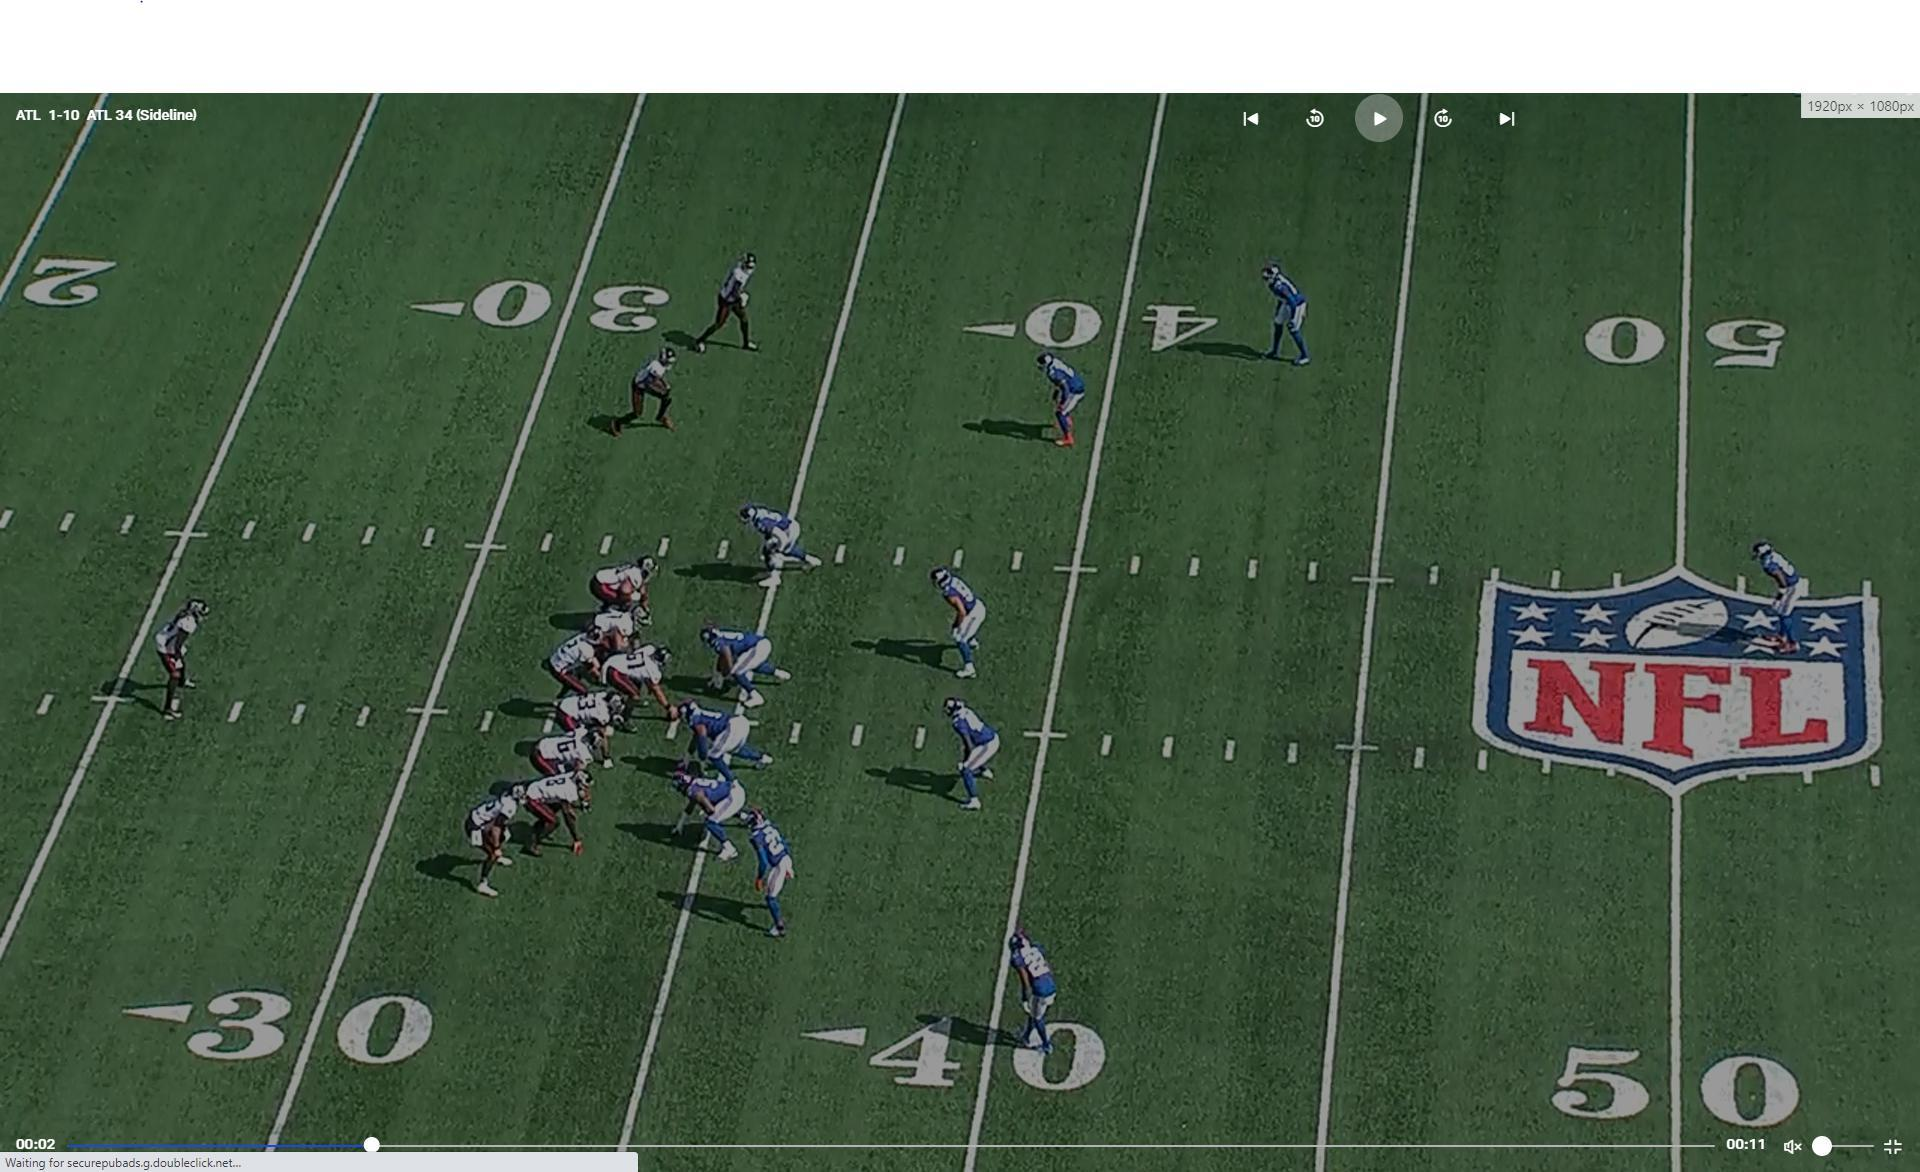player: (690, 248, 766, 360), (678, 697, 778, 781), (739, 496, 825, 592), (702, 621, 794, 710), (675, 766, 758, 863), (155, 595, 216, 720), (608, 343, 683, 444), (459, 783, 521, 905), (1010, 923, 1063, 1059), (752, 804, 804, 942), (514, 773, 592, 860), (931, 563, 988, 681), (598, 646, 676, 731), (1753, 538, 1809, 655), (1258, 258, 1315, 372), (944, 694, 998, 812), (551, 686, 621, 769), (1037, 348, 1089, 452), (585, 559, 657, 629), (544, 625, 604, 696), (528, 730, 602, 779), (582, 612, 646, 664)
